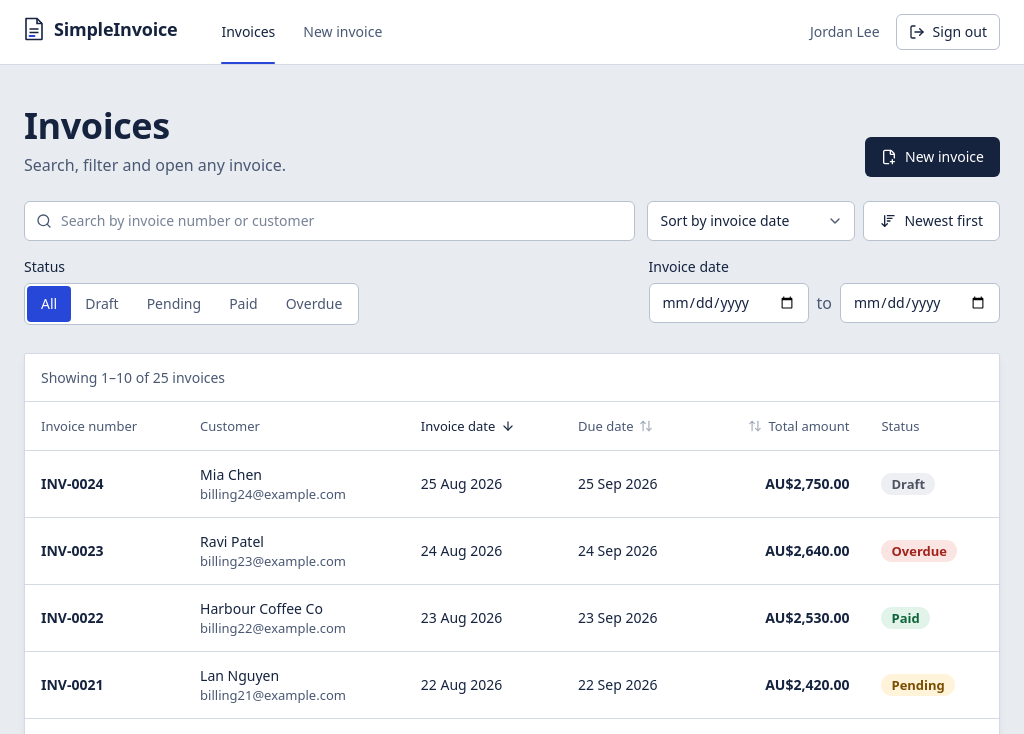
invoice list › keeps a space typed at a word boundary
Type "Harbour " into the search field named "Search invoices" at coordinates (330, 221), box [24,201,636,241]
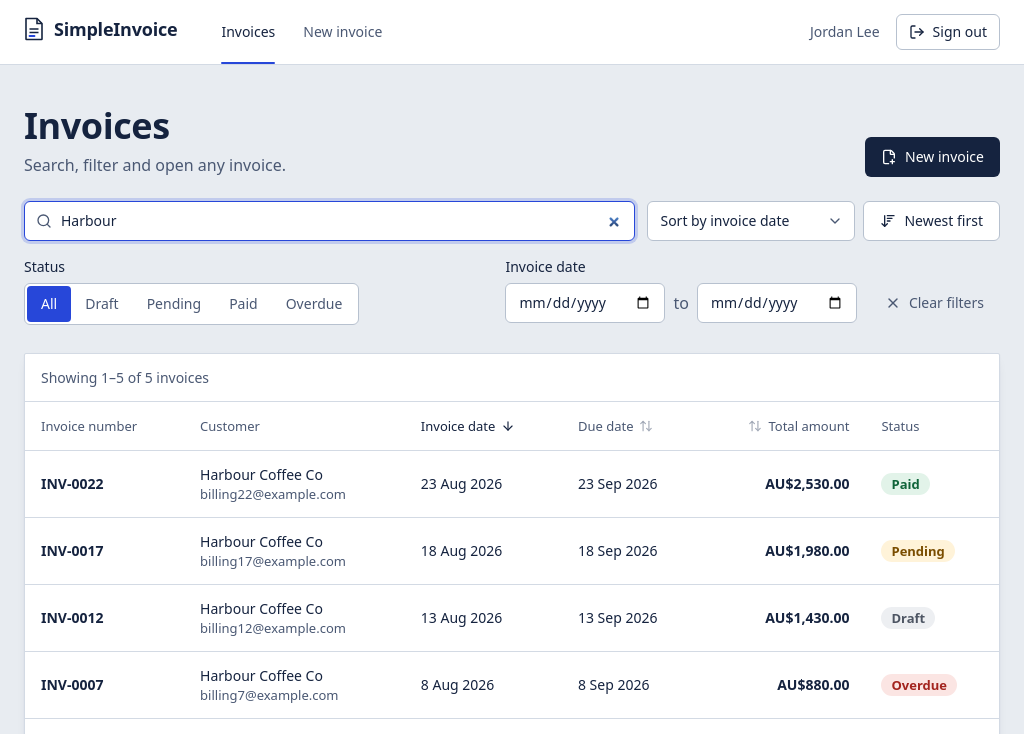
Type "Coffee" into the search field named "Search invoices" at coordinates (330, 221), box [24,201,636,241]
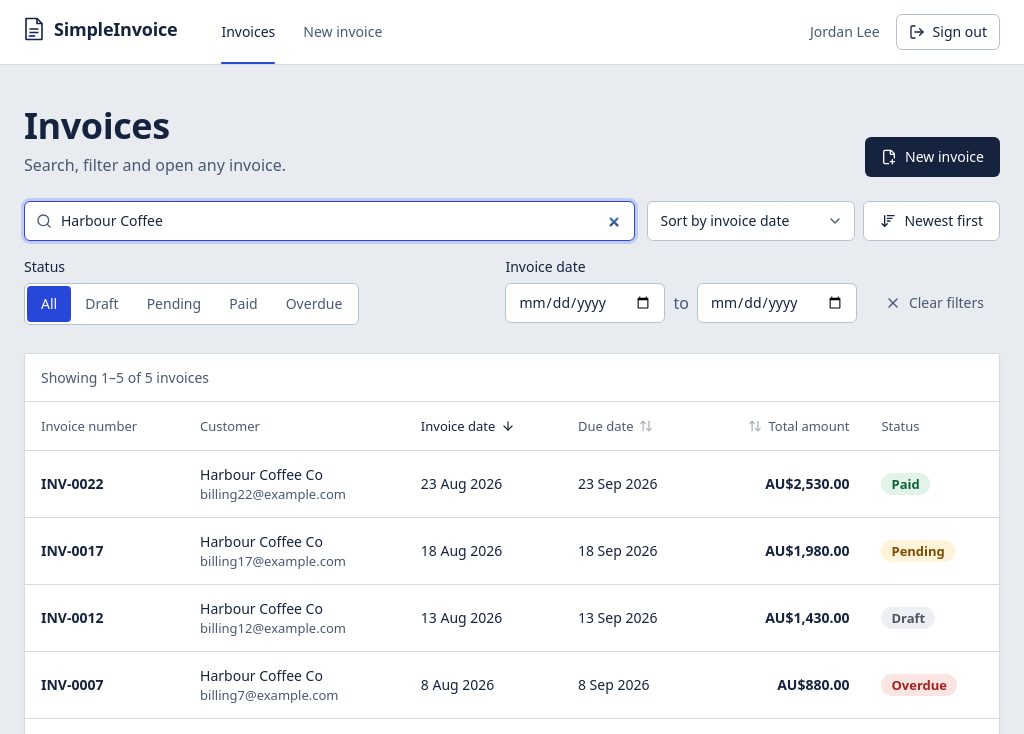
Expected: the search field named "Search invoices" holds "Harbour Coffee", [24,201,636,241]
